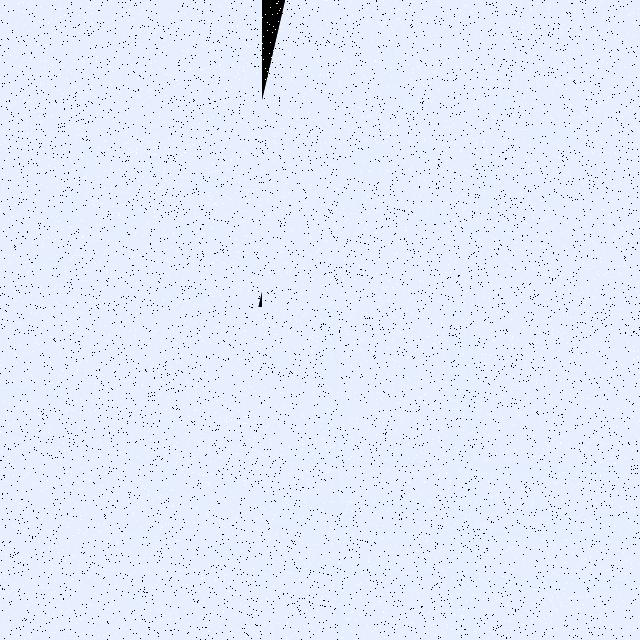drone: (262, 307, 640, 640)
